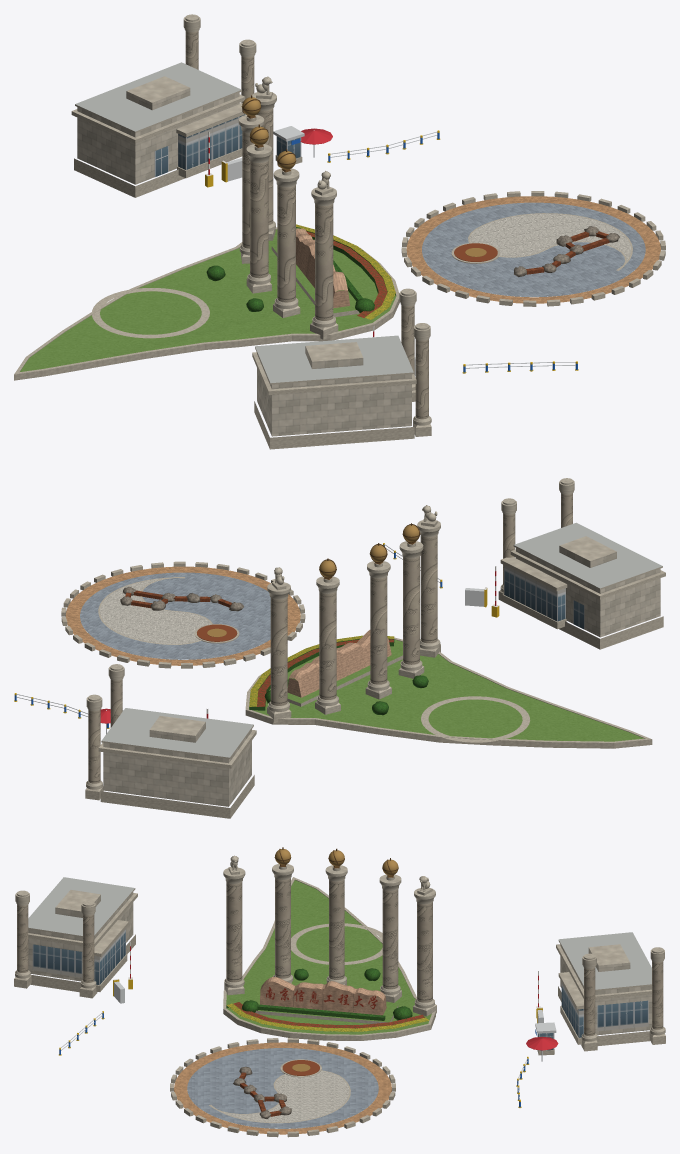
File: dongdamen.glb
3 views of the same model, one above another, from view 1: azimuth 30°, elevation 25°; view 2: azimuth 150°, elevation 25°; view 3: azimuth 270°, elevation 25° (orthographic). The views are drawn at different scales.
Visible parts, largest first — view 1: 东大门; view 2: 东大门; view 3: 东大门.
Part boxes in pixels (x1,y1,x2,y2): 东大门: [14, 14, 665, 449]; 东大门: [14, 478, 665, 818]; 东大门: [14, 847, 665, 1137].
Bounding box in the file's own units: 61.25 × 16.01 × 64.31.
26 materials, 15 textured.
